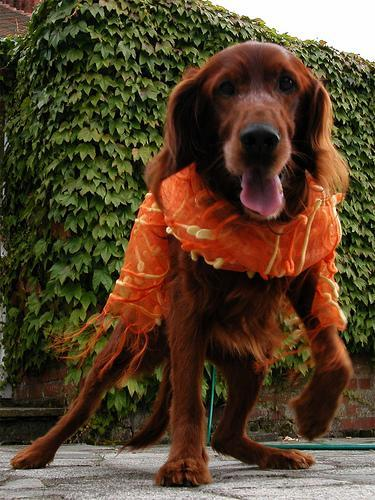Irish_setter: (10, 40, 353, 488)
